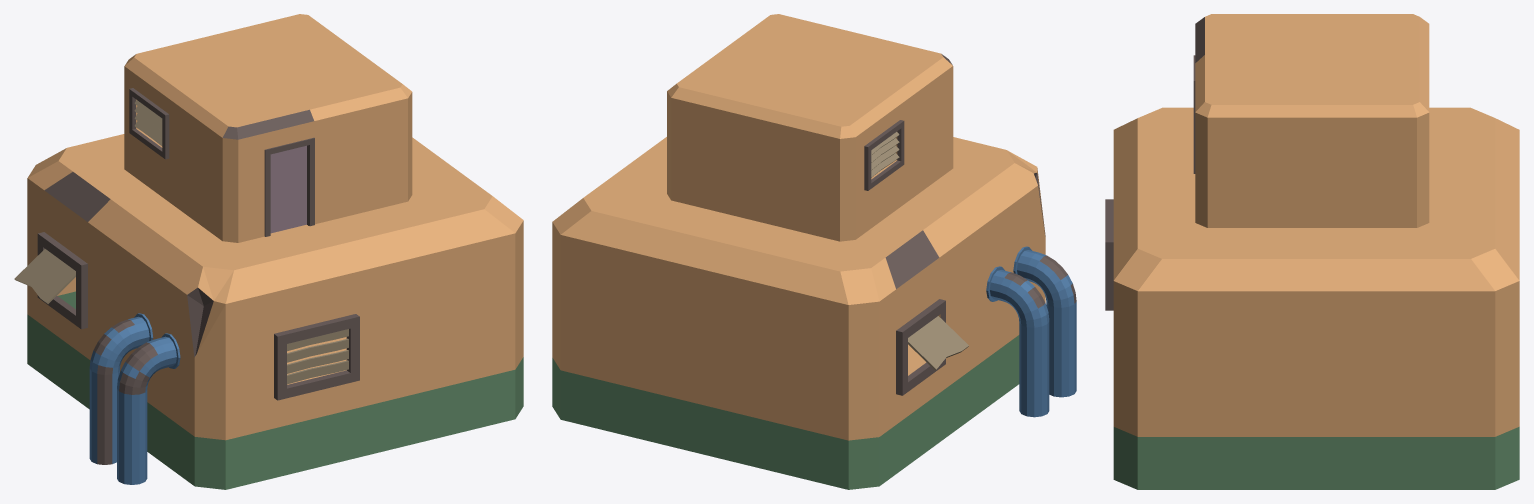
Rendered from 11 Safe_House.FBX.
The picture shows the model from 3 angles, left to right: view 1: azimuth 30°, elevation 25°; view 2: azimuth 150°, elevation 25°; view 3: azimuth 270°, elevation 25°; orthographic projection. The views are drawn at different scales.
Visible parts, largest first — view 1: Safe_House; view 2: Safe_House; view 3: Safe_House.
Part boxes in pixels (box(x1,y1,x2,y2)): Safe_House: box(14, 14, 523, 489); Safe_House: box(552, 14, 1076, 489); Safe_House: box(1105, 14, 1519, 489).
Bounding box in the file's own units: 2899 × 2309 × 2550.
